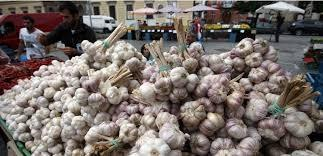garlic: (71, 58, 323, 156), (0, 40, 139, 146), (230, 35, 274, 66)
